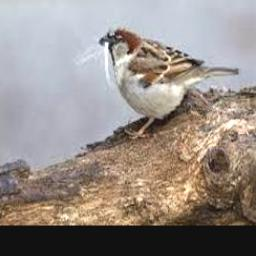Sparrow: (99, 25, 240, 138)
